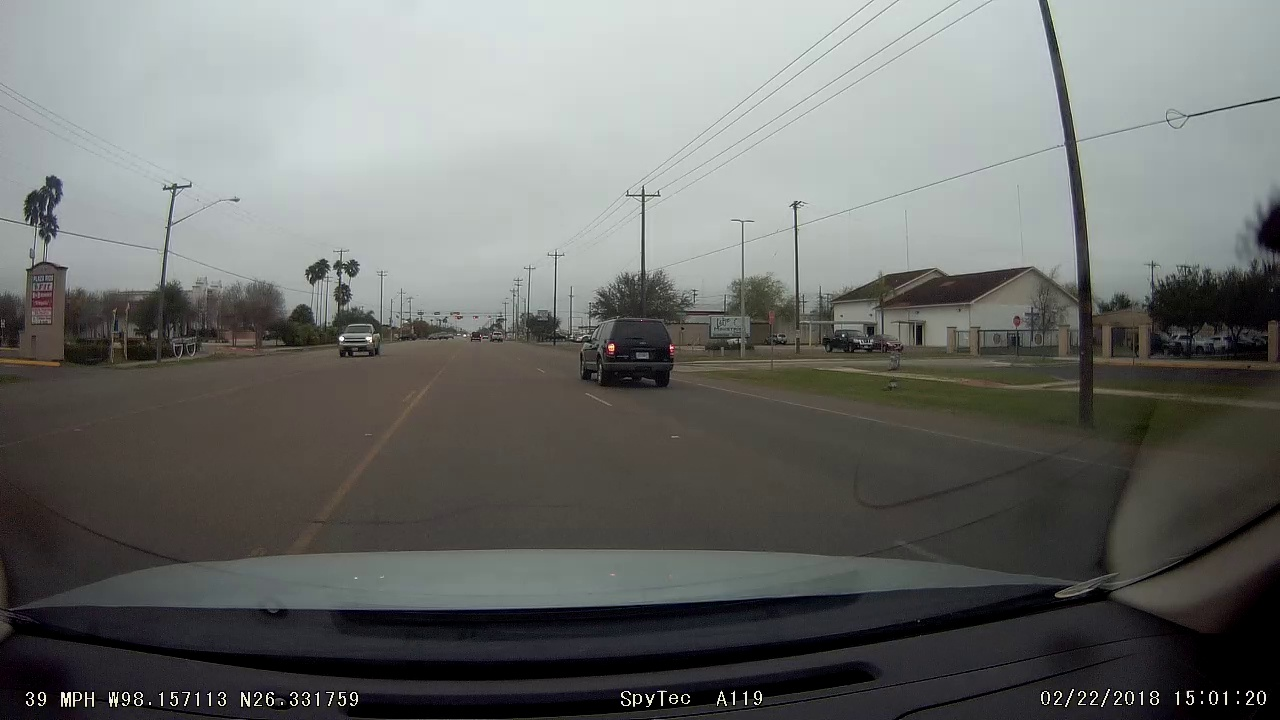crack: (301, 498, 571, 529)
